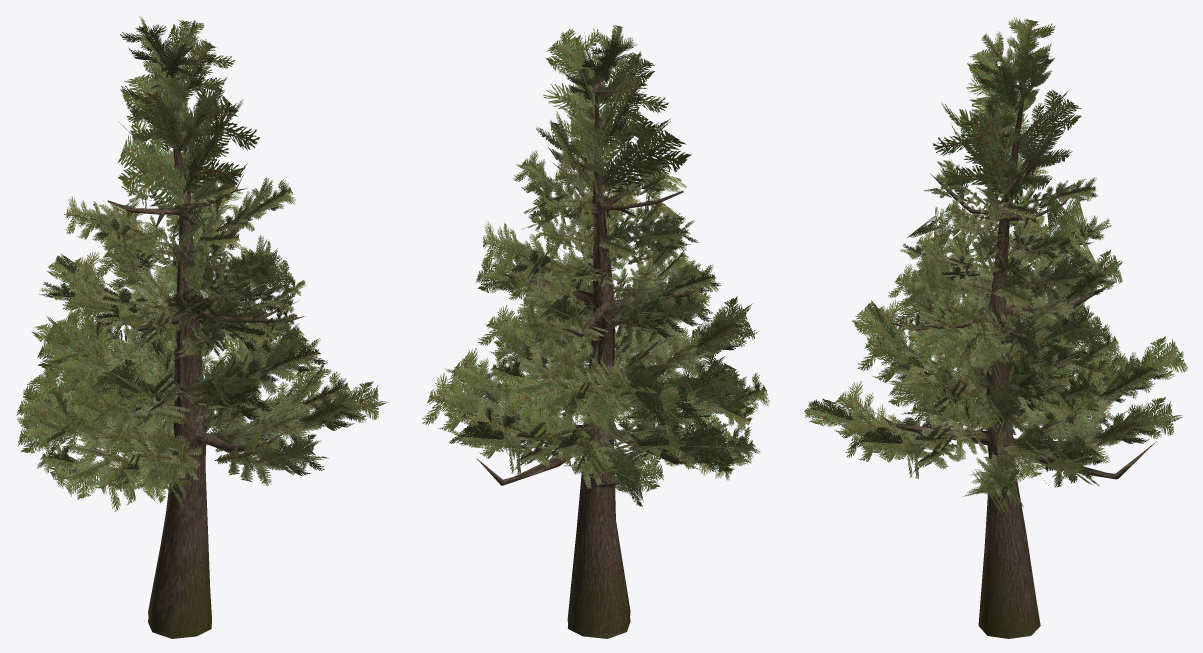
Rendered from Pine Tree 2.fbx.
The picture shows the model from 3 angles, left to right: view 1: azimuth 30°, elevation 25°; view 2: azimuth 150°, elevation 25°; view 3: azimuth 270°, elevation 25°; orthographic projection.
Visible parts, largest first — view 1: Pine TreeLOD, Pine Tree; view 2: Pine TreeLOD, Pine Tree; view 3: Pine TreeLOD, Pine Tree.
Part boxes in pixels (x1,y1,x2,y2): Pine TreeLOD: (16, 16, 386, 638); Pine Tree: (21, 22, 376, 636); Pine TreeLOD: (422, 25, 769, 638); Pine Tree: (433, 30, 765, 634); Pine TreeLOD: (804, 17, 1188, 638); Pine Tree: (808, 21, 1179, 638).
Size of what is drawn, in the model's own units: 478 by 458 by 829.
